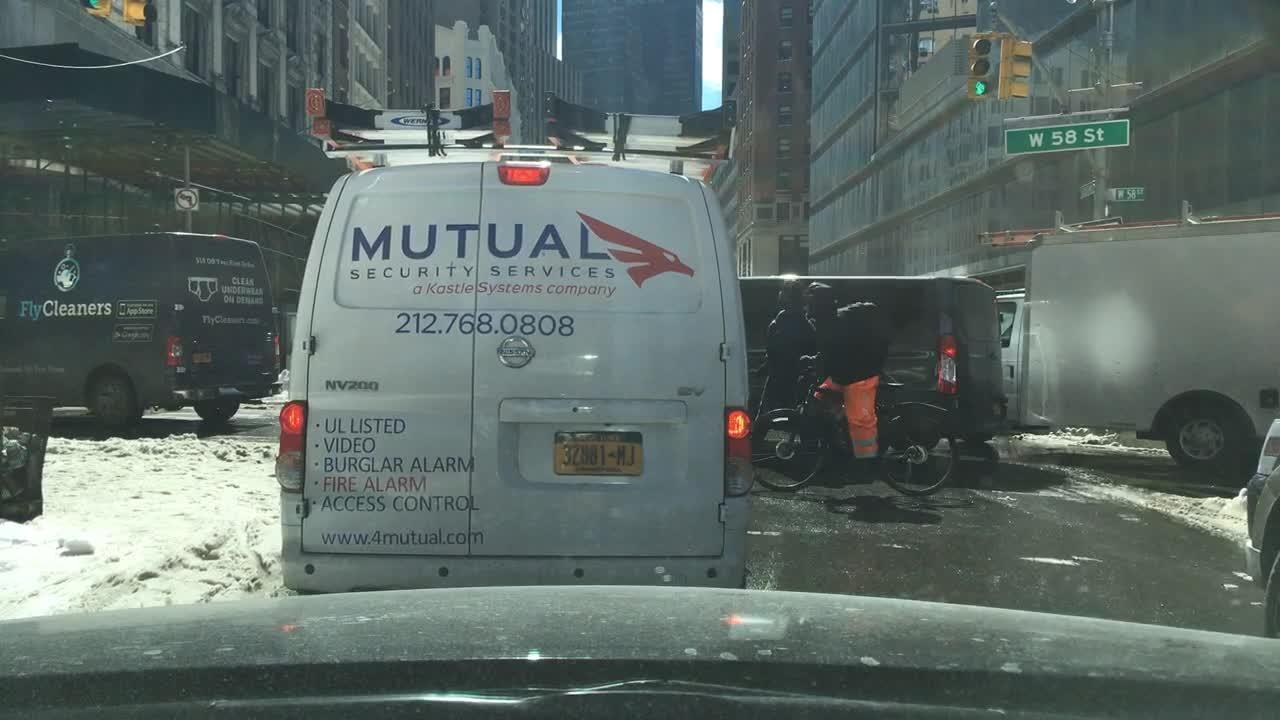Nissan: (486, 333, 548, 374)
